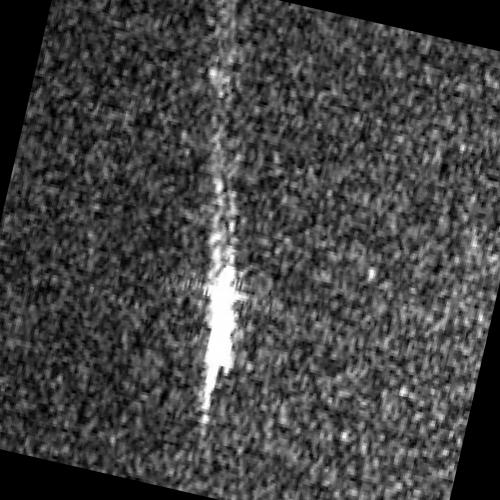ship: (205, 256, 237, 378)
